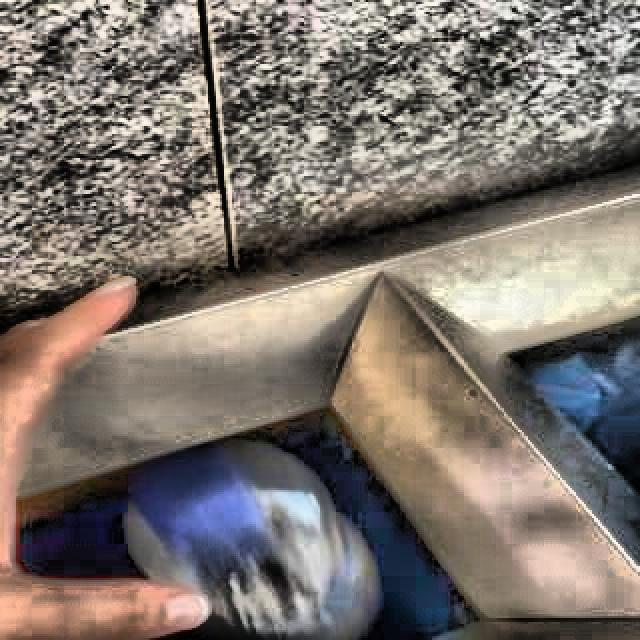plastic: (125, 442, 379, 640)
